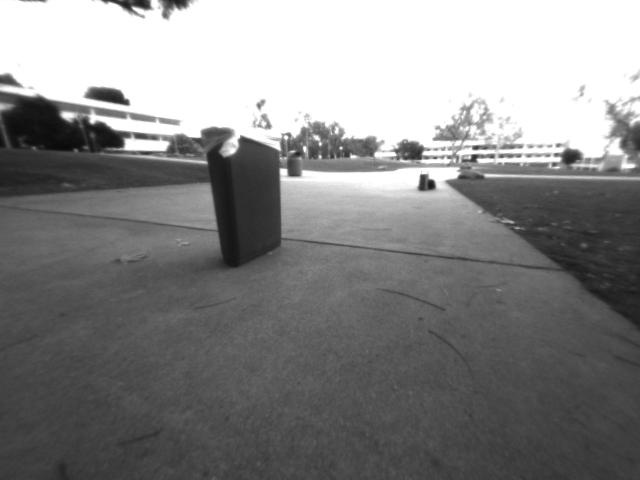trashcan_open: (197, 121, 284, 269)
